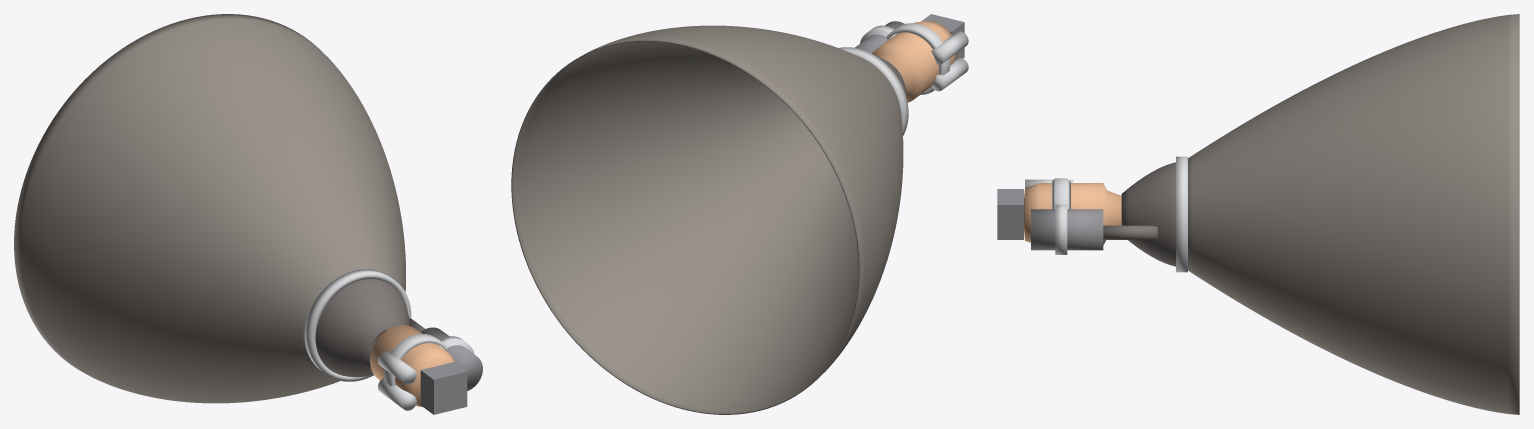
File: merlin_1d_vac.glb
The picture shows the model from 3 angles, left to right: view 1: azimuth 30°, elevation 25°; view 2: azimuth 150°, elevation 25°; view 3: azimuth 270°, elevation 25°; orthographic projection.
Parts seen in each view (by area): view 1: merlin_1d_vac; view 2: merlin_1d_vac; view 3: merlin_1d_vac.
Boxes of the visible parts, bbox=[...] form: merlin_1d_vac: bbox=[14, 14, 482, 414]; merlin_1d_vac: bbox=[511, 14, 968, 414]; merlin_1d_vac: bbox=[997, 14, 1519, 414].
Bounding box in the file's own units: 3.32 × 3.32 × 4.33.
